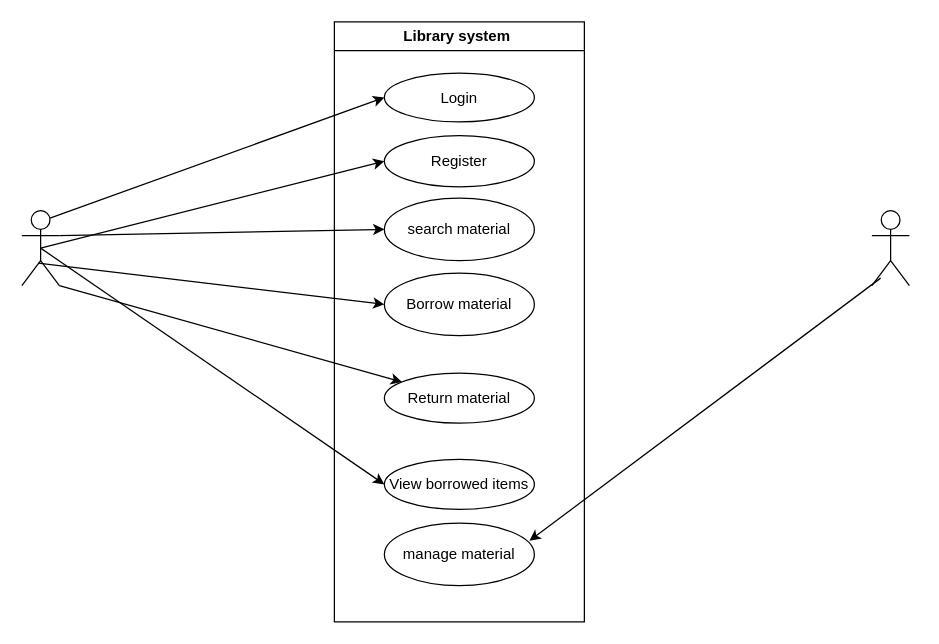
Image size: 939x644. Some labels were removed from this diagram. Each missing label, with the centre of its shape:
librarian: the point at 890,247
user: the point at 40,247
